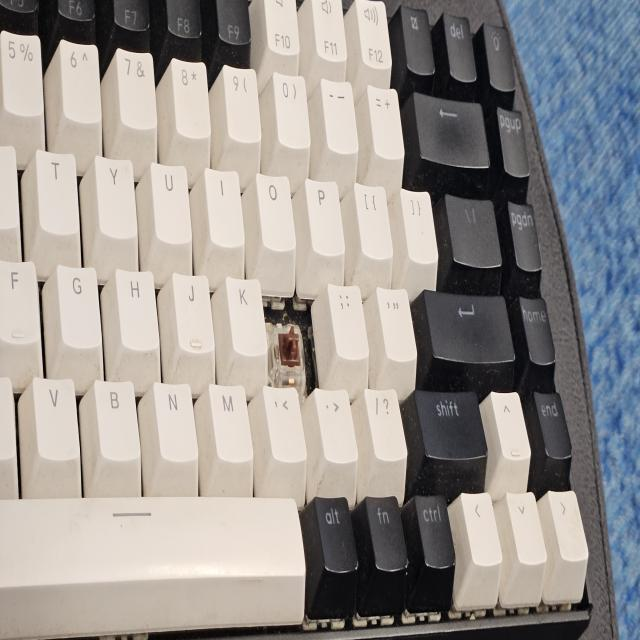C: (267, 308, 315, 368)
